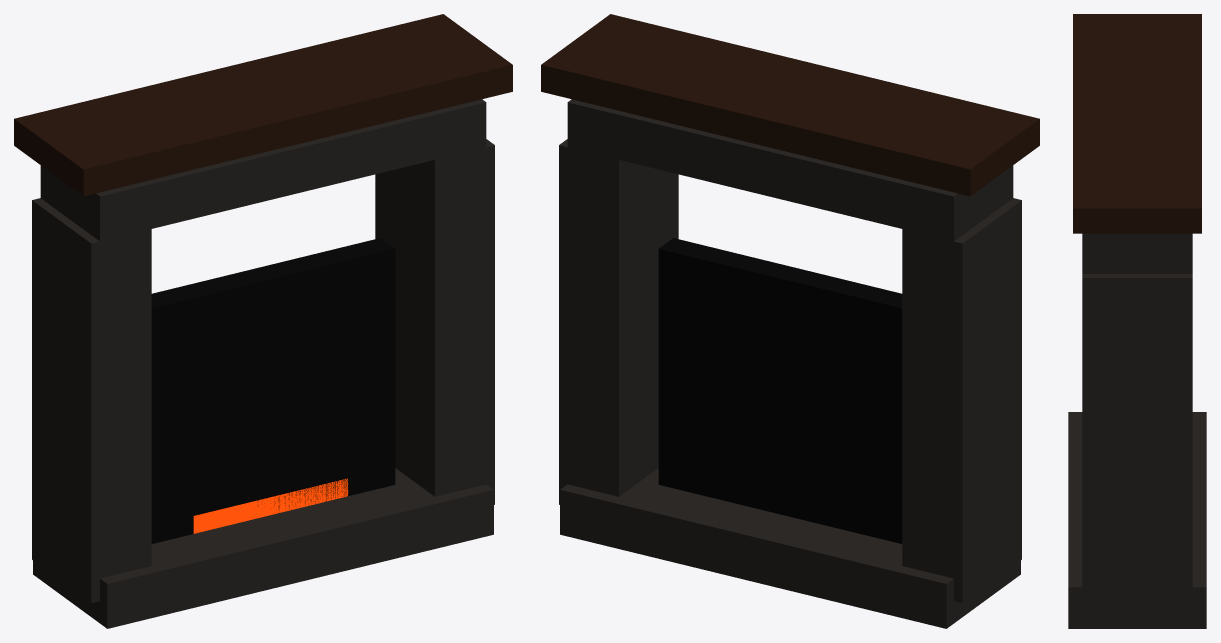
File: raum_kamin.glb
3 views of the same model, side by side, from view 1: azimuth 30°, elevation 25°; view 2: azimuth 150°, elevation 25°; view 3: azimuth 270°, elevation 25° (orthographic). The views are drawn at different scales.
Parts seen in each view (by area): view 1: oeffnung, sims, wange_l, wange_r, sockel, sturz, glut; view 2: oeffnung, sims, wange_l, wange_r, sockel, sturz; view 3: wange_r, sims, sockel, sturz.
Boxes of the visible parts, x1=… form: oeffnung: x1=151, y1=238, x2=395, y2=543; sims: x1=14, y1=14, x2=512, y2=196; wange_l: x1=32, y1=198, x2=151, y2=602; wange_r: x1=375, y1=139, x2=494, y2=504; sockel: x1=33, y1=468, x2=493, y2=628; sturz: x1=40, y1=99, x2=486, y2=241; glut: x1=193, y1=478, x2=348, y2=533; oeffnung: x1=658, y1=238, x2=902, y2=543; sims: x1=541, y1=14, x2=1039, y2=196; wange_l: x1=902, y1=198, x2=1021, y2=602; wange_r: x1=559, y1=139, x2=678, y2=504; sockel: x1=560, y1=468, x2=1020, y2=628; sturz: x1=567, y1=99, x2=1013, y2=241; wange_r: x1=1082, y1=274, x2=1192, y2=611; sims: x1=1073, y1=14, x2=1201, y2=233; sockel: x1=1068, y1=412, x2=1206, y2=628; sturz: x1=1082, y1=233, x2=1192, y2=273.
Size of the model in its own units: 1 by 1.03 by 0.3.
